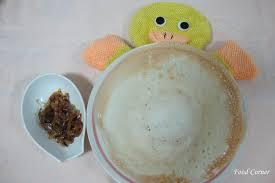Hoppers: (89, 44, 249, 183)
